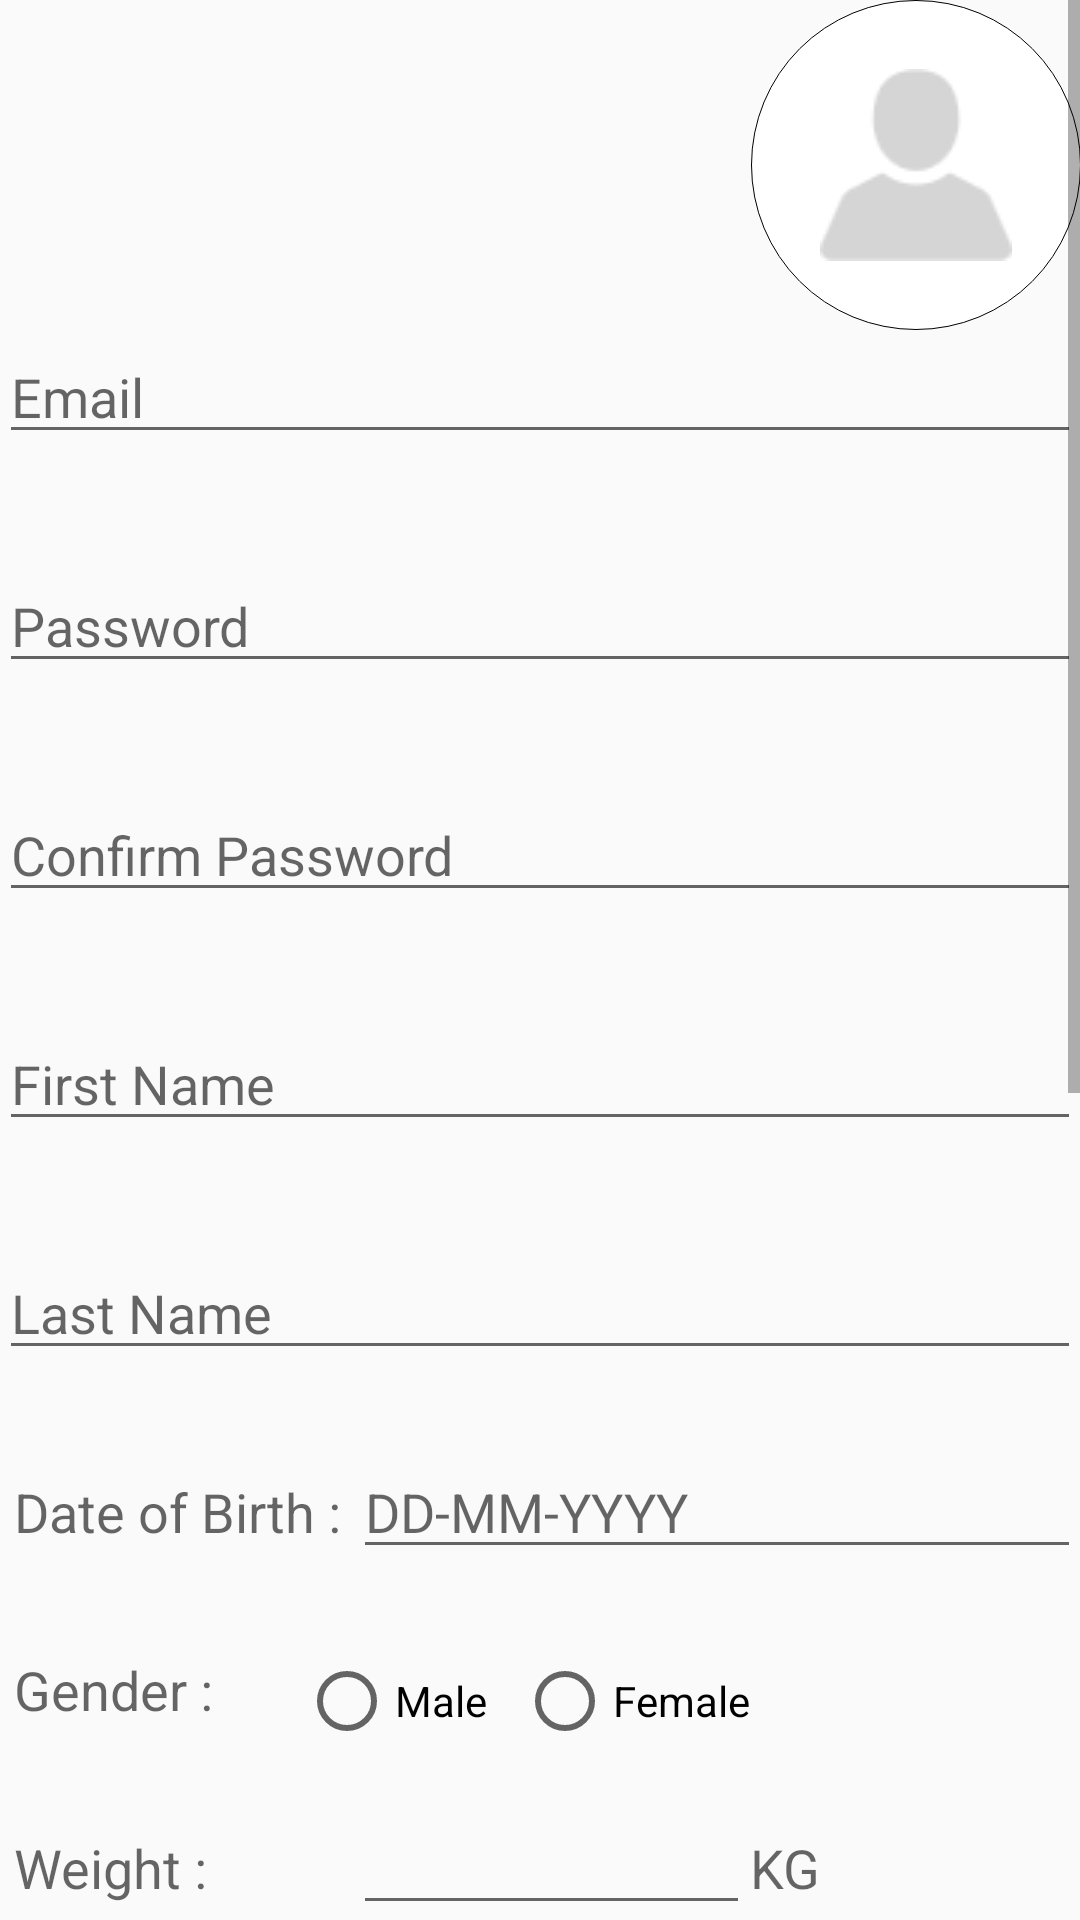

Point at icon controls on the screen. Image size 1080px×1920px, points as (x,y).
blank profile: (916,166)
